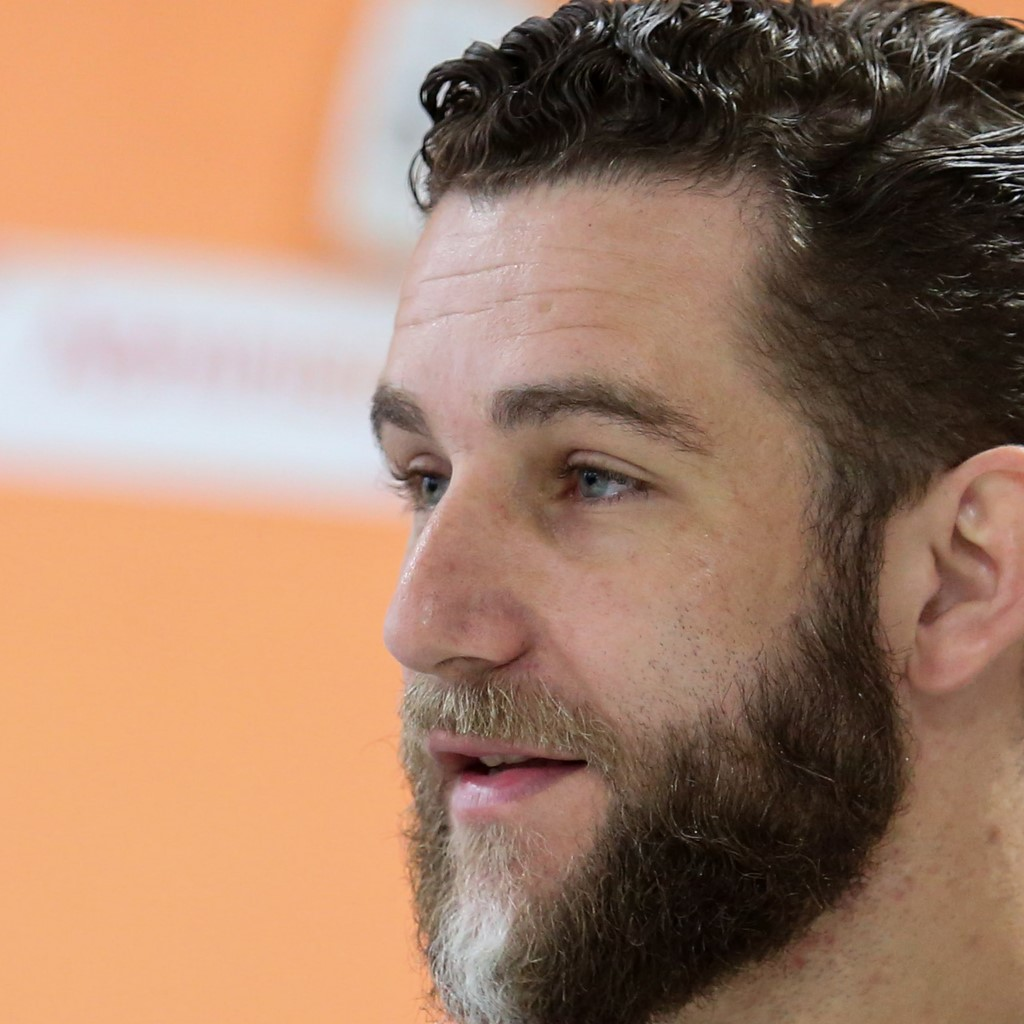sin_mascara: (355, 84, 1024, 997)
